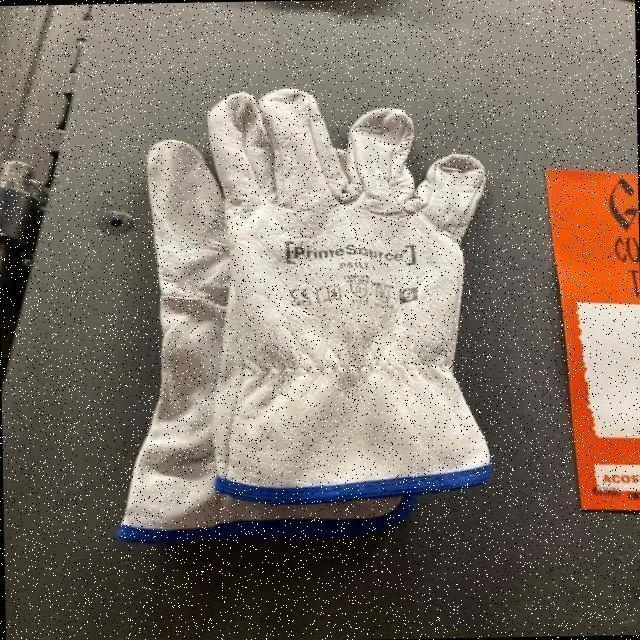Guantes: (121, 92, 507, 555)
